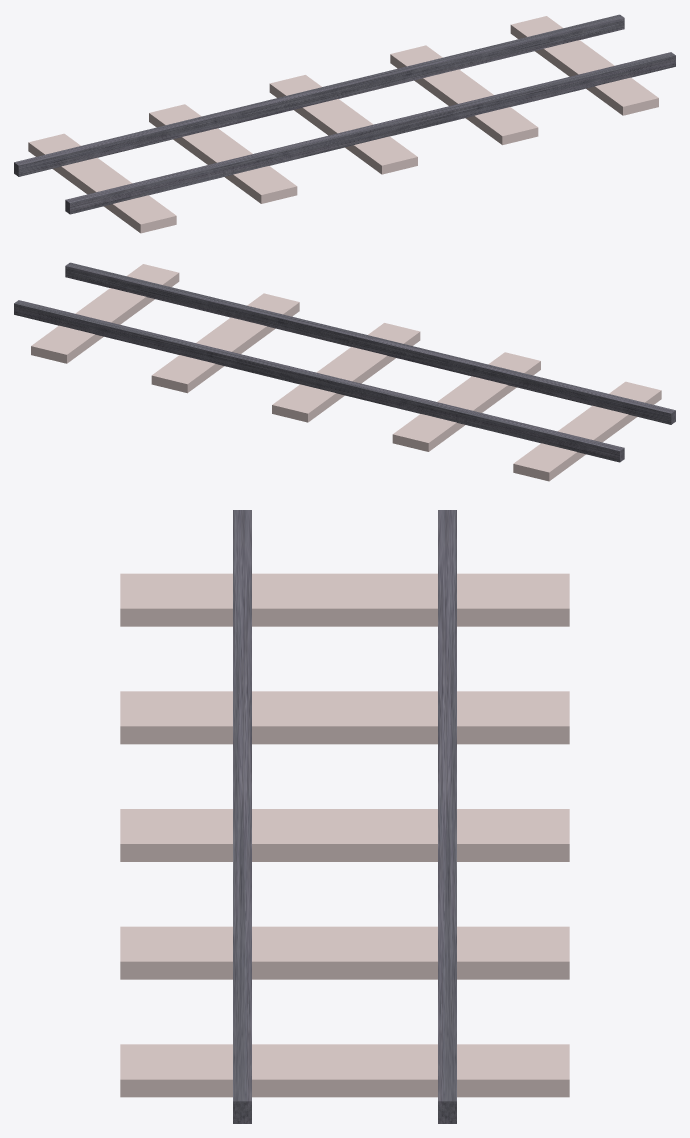
Rendered from rails.fbx.
3 renders of one model, top to bottom at view 1: azimuth 30°, elevation 25°; view 2: azimuth 150°, elevation 25°; view 3: azimuth 270°, elevation 25°, orthographic. The views are drawn at different scales.
Visible parts, largest first — view 1: Cube.000; view 2: Cube.000; view 3: Cube.000.
Part boxes in pixels (left/top/right/bottom): Cube.000: left=14, top=14, right=675, bottom=233; Cube.000: left=14, top=262, right=675, bottom=481; Cube.000: left=120, top=510, right=569, bottom=1123.
Size of the model in its own units: 1001 by 31.55 by 321.
